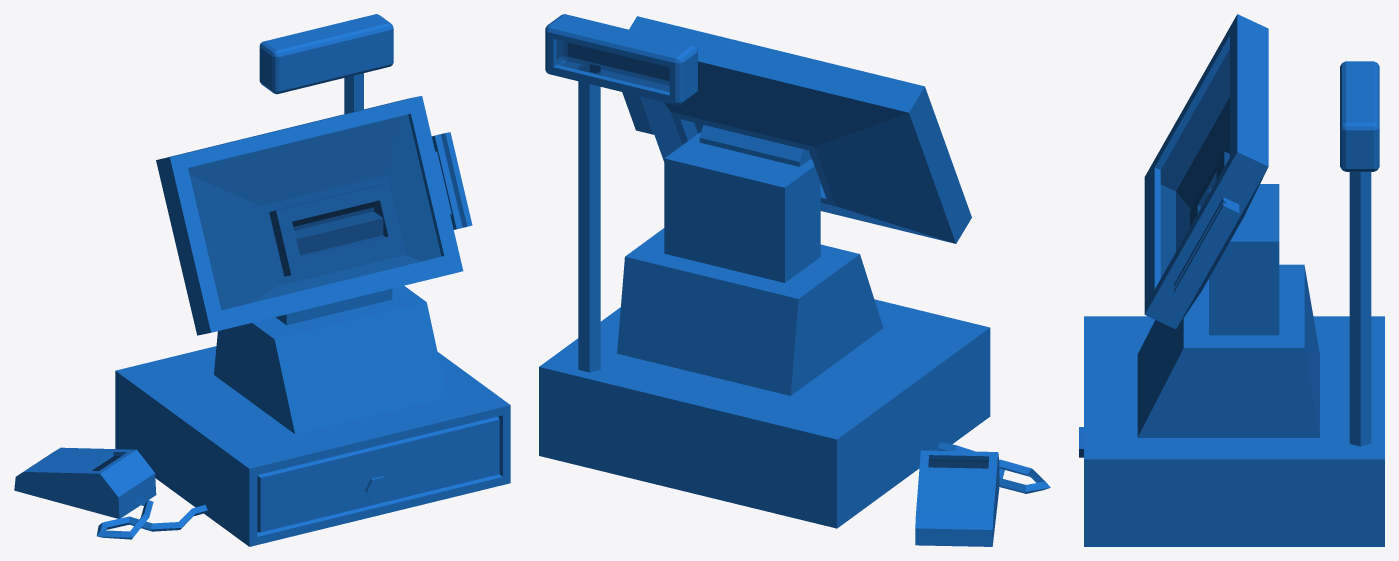
File: SM_cash_register.fbx
The picture shows the model from 3 angles, left to right: view 1: azimuth 30°, elevation 25°; view 2: azimuth 150°, elevation 25°; view 3: azimuth 270°, elevation 25°; orthographic projection. The views are drawn at different scales.
Visible parts, largest first — view 1: cash_register; view 2: cash_register; view 3: cash_register.
Part boxes in pixels (left/top/right/bottom): cash_register: left=14, top=14, right=510, bottom=546; cash_register: left=539, top=14, right=1050, bottom=546; cash_register: left=1079, top=14, right=1384, bottom=546.
Bounding box in the file's own units: 52.13 × 49.56 × 32.22.
